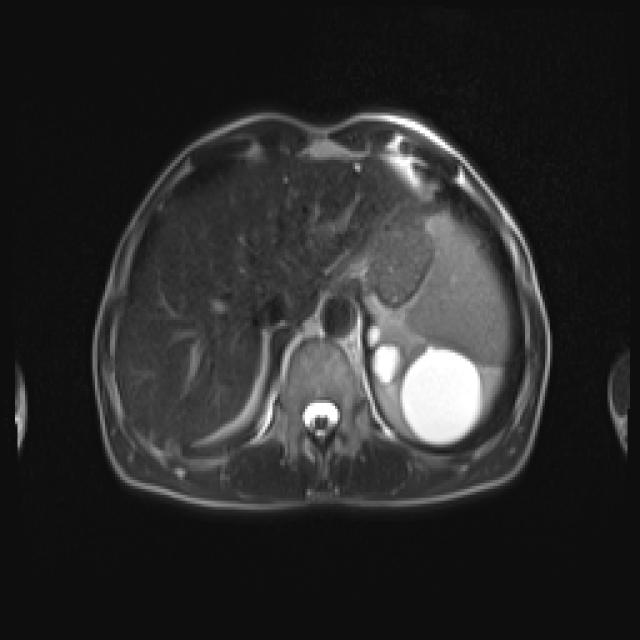sol: (369, 324, 482, 446)
